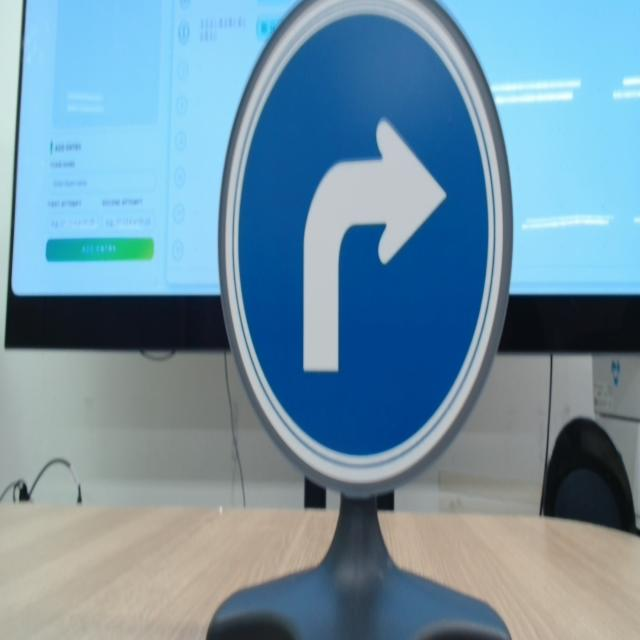right_dierection: (221, 0, 525, 526)
